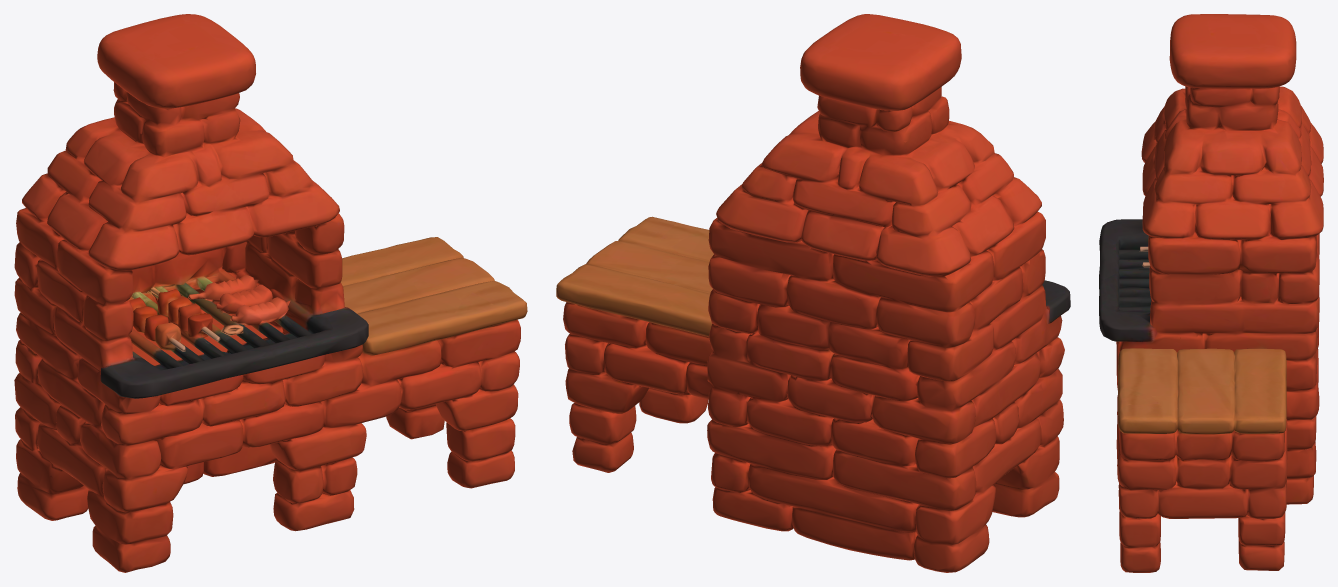
File: 33-churrasqueira.glb
3 renders of one model, left to right at view 1: azimuth 30°, elevation 25°; view 2: azimuth 150°, elevation 25°; view 3: azimuth 270°, elevation 25°, orthographic. The views are drawn at different scales.
Visible parts, largest first — view 1: tripo_node_0bdc8332-f2b3-4ec9-b8eb-29bdc29bead6; view 2: tripo_node_0bdc8332-f2b3-4ec9-b8eb-29bdc29bead6; view 3: tripo_node_0bdc8332-f2b3-4ec9-b8eb-29bdc29bead6.
Part boxes in pixels (x1,y1,x2,y2): tripo_node_0bdc8332-f2b3-4ec9-b8eb-29bdc29bead6: (14,14,527,572); tripo_node_0bdc8332-f2b3-4ec9-b8eb-29bdc29bead6: (556,14,1070,572); tripo_node_0bdc8332-f2b3-4ec9-b8eb-29bdc29bead6: (1099,14,1323,572).
Size of the model in its own units: 0.9307 by 1 by 0.485.
1 material, 1 textured.
